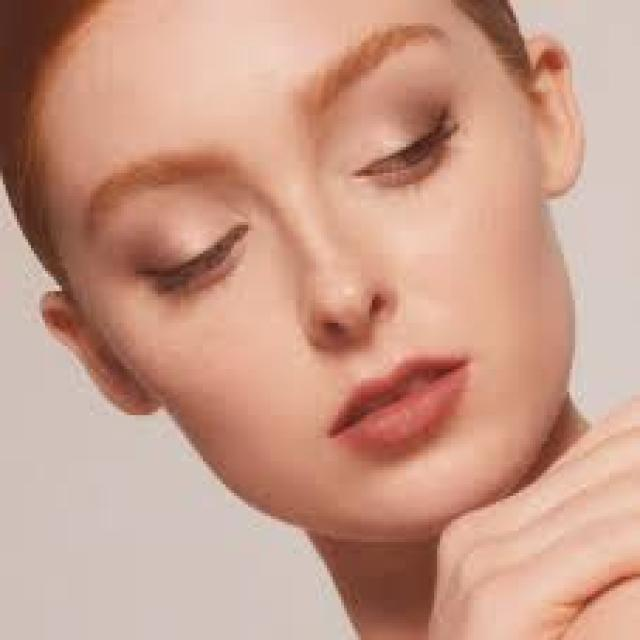no_dark_circle: (162, 264, 275, 310), (385, 166, 461, 203)
